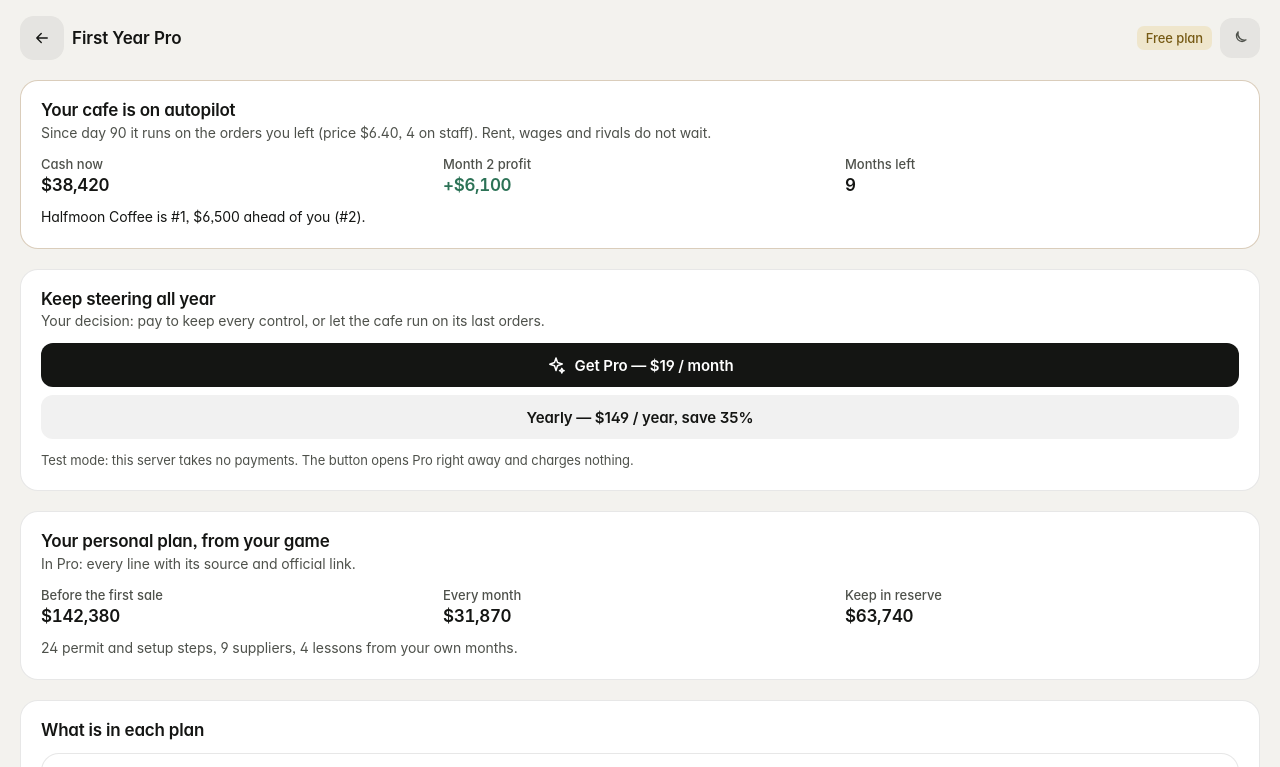
Test: /pro › autopilot → one decision → the controls are back, said in words
Expected: the text "Your cafe is on autopilot" is shown, [41,100,235,120]
Expected: the text "Test mode: this server takes no payments" is shown, [41,452,634,468]
Click the button "Get Pro — $19 / month" at (640, 365), box [41,343,1239,387]
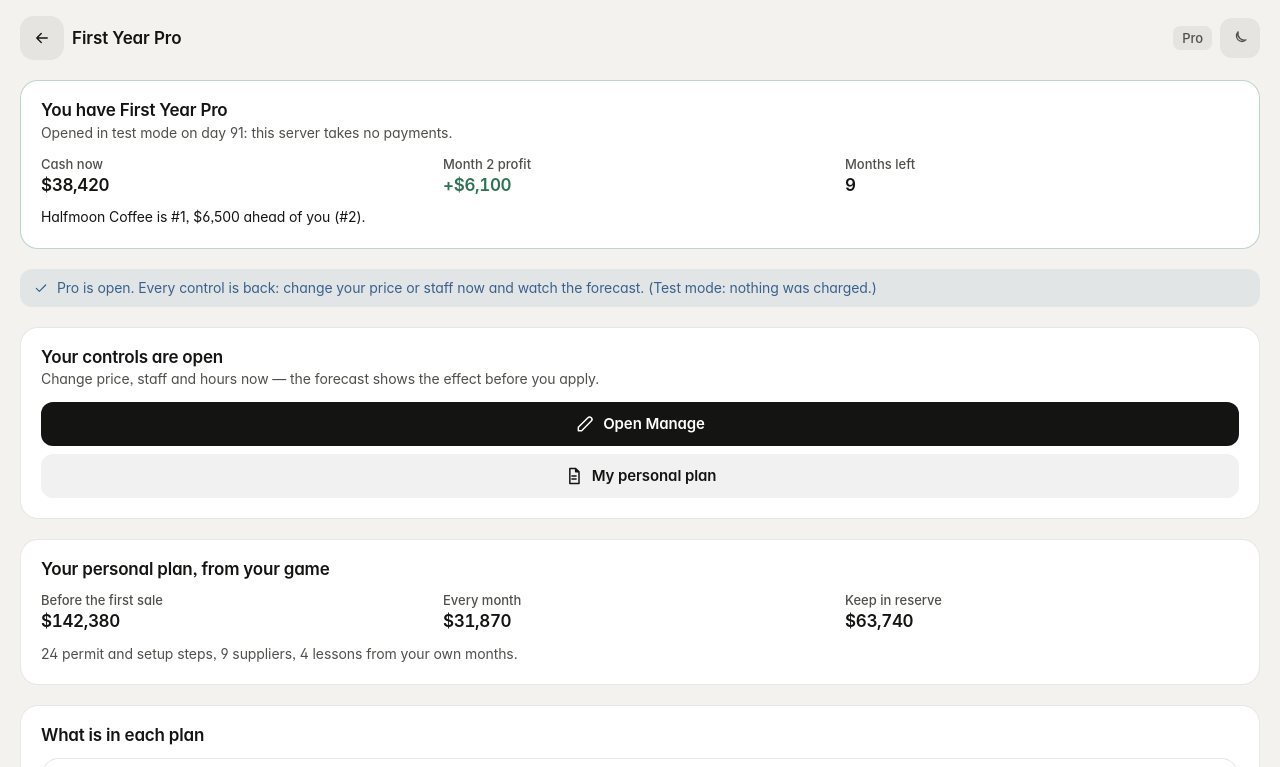
Now the text "Pro is open. Every control is back" is shown, box [57,278,877,296]
Now the button "Open Manage" is shown, box [41,402,1239,446]
Now the button "Get Pro" is gone
